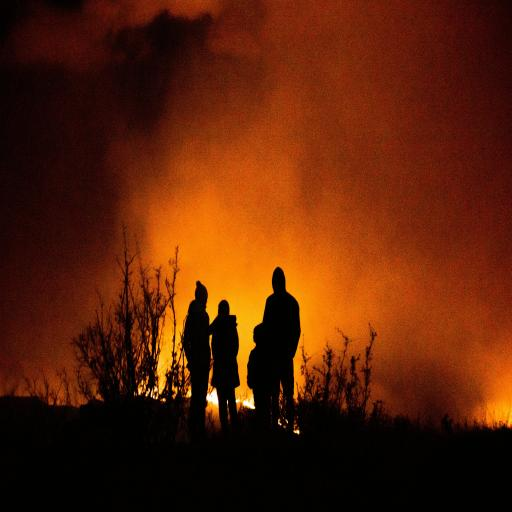wildfire: (4, 2, 512, 449)
